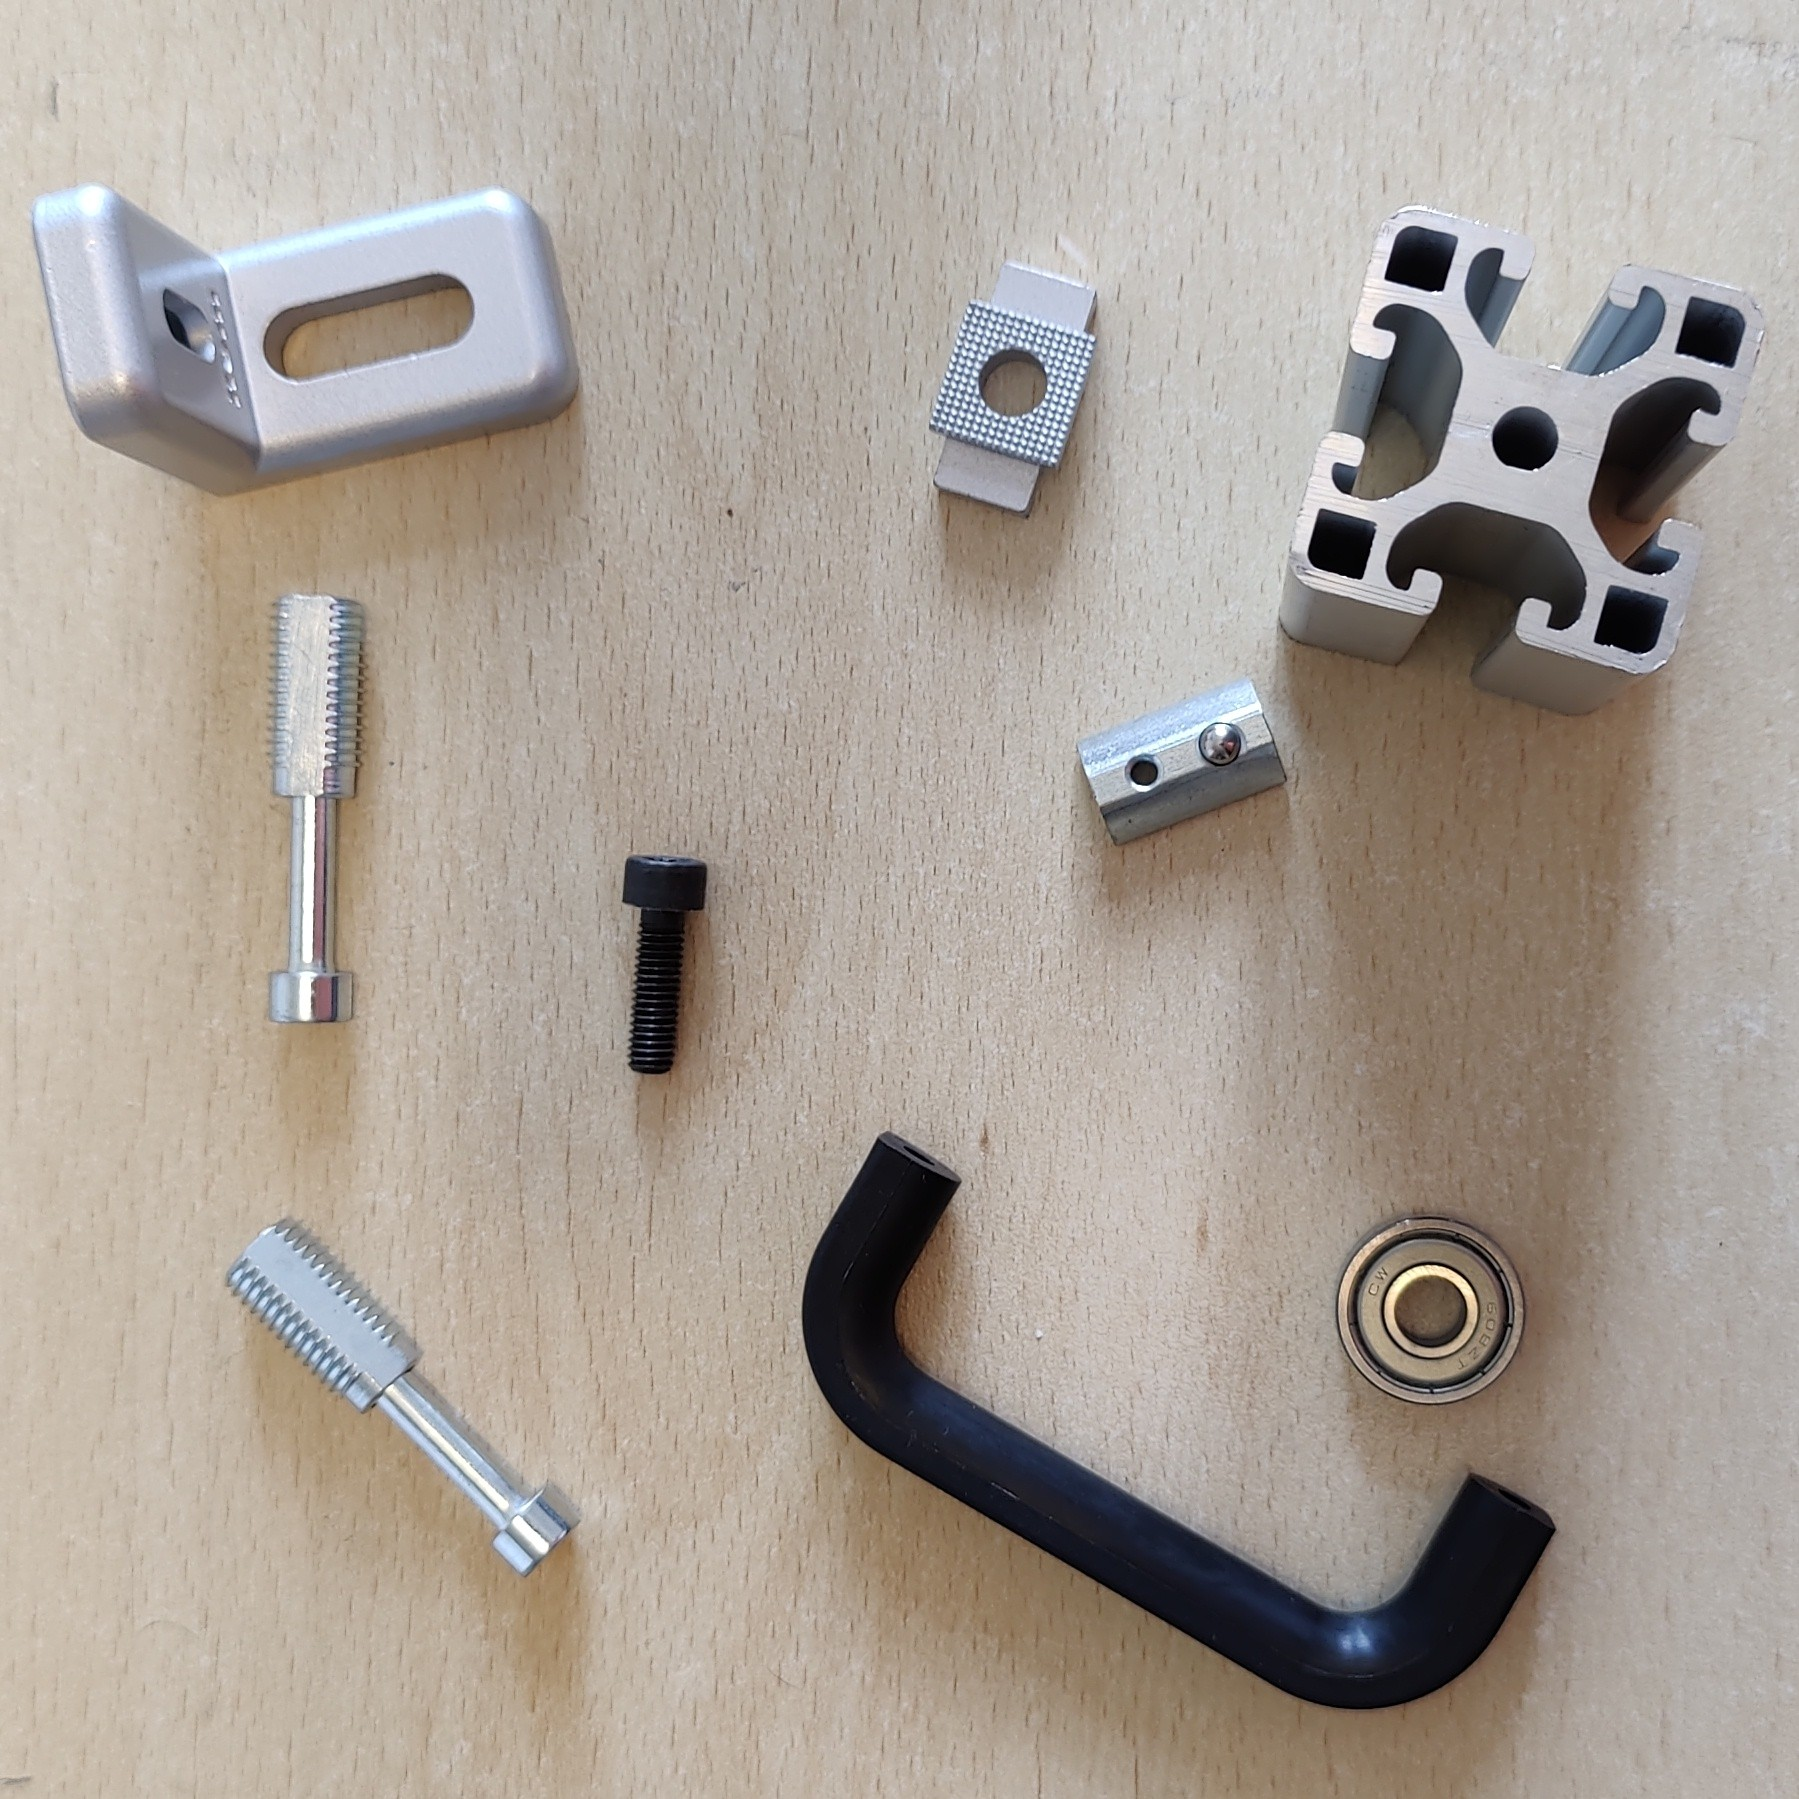Aluminium Extension: (1277, 208, 1768, 718)
Ball Bearing: (1334, 1214, 1530, 1409)
Multiwinkel: (26, 183, 582, 501)
Pull Handle: (801, 1125, 1562, 1713)
Shoulder Socket Head Cap Screw: (226, 1214, 583, 1580), (264, 586, 367, 1026)
Socket Head Cap Screw: (619, 848, 712, 1077)
T Nut Square: (926, 255, 1104, 521)
T Spring Nut: (1072, 675, 1292, 847)
